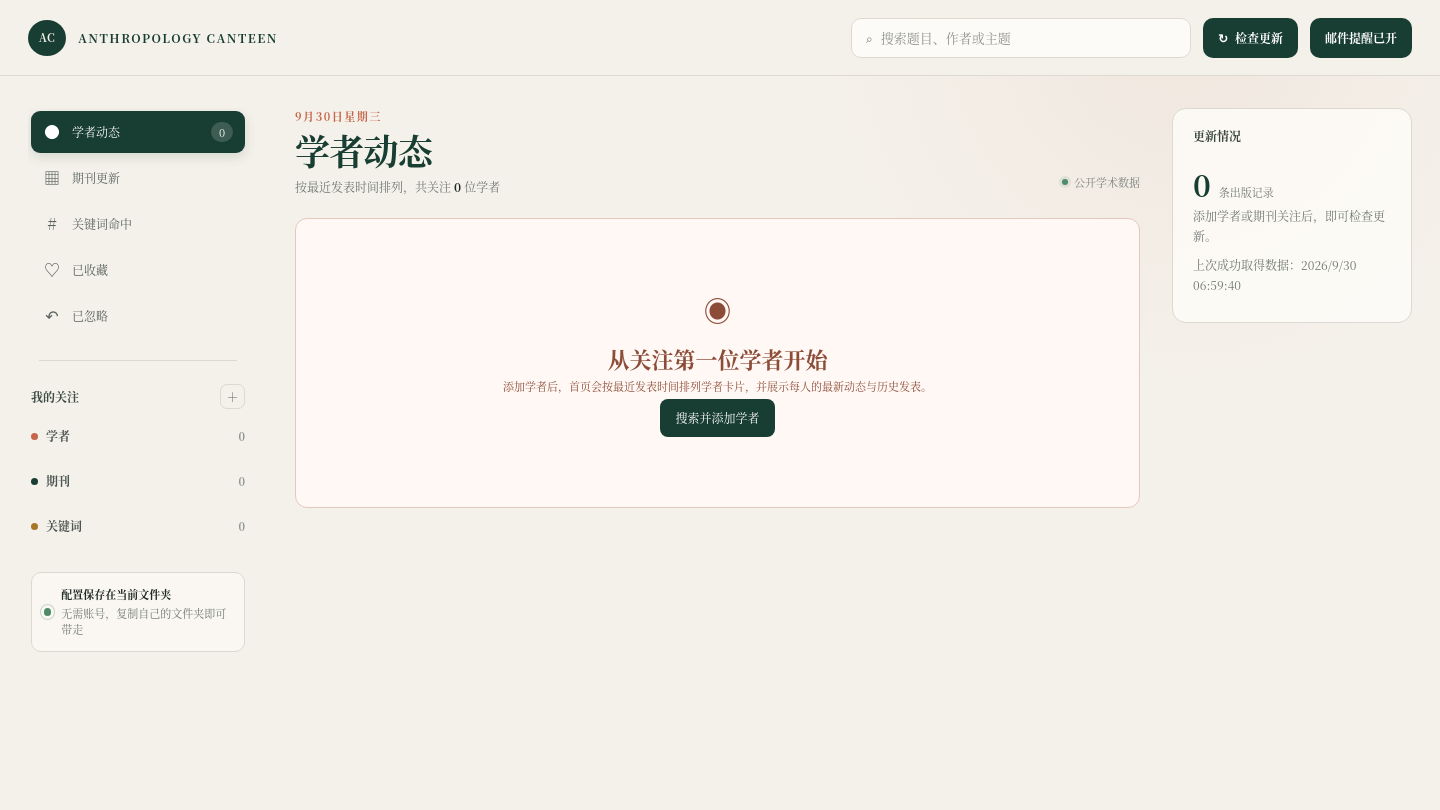
Scenario: Slice C reminder state, accessibility, and narrow layout › ambiguous old Windows tasks are reported without a delete action
This screenshot has width=1440, height=810.
Click the button "邮件提醒已开". click: [1361, 38]
box: [1310,18,1412,58]
(page scrolled)
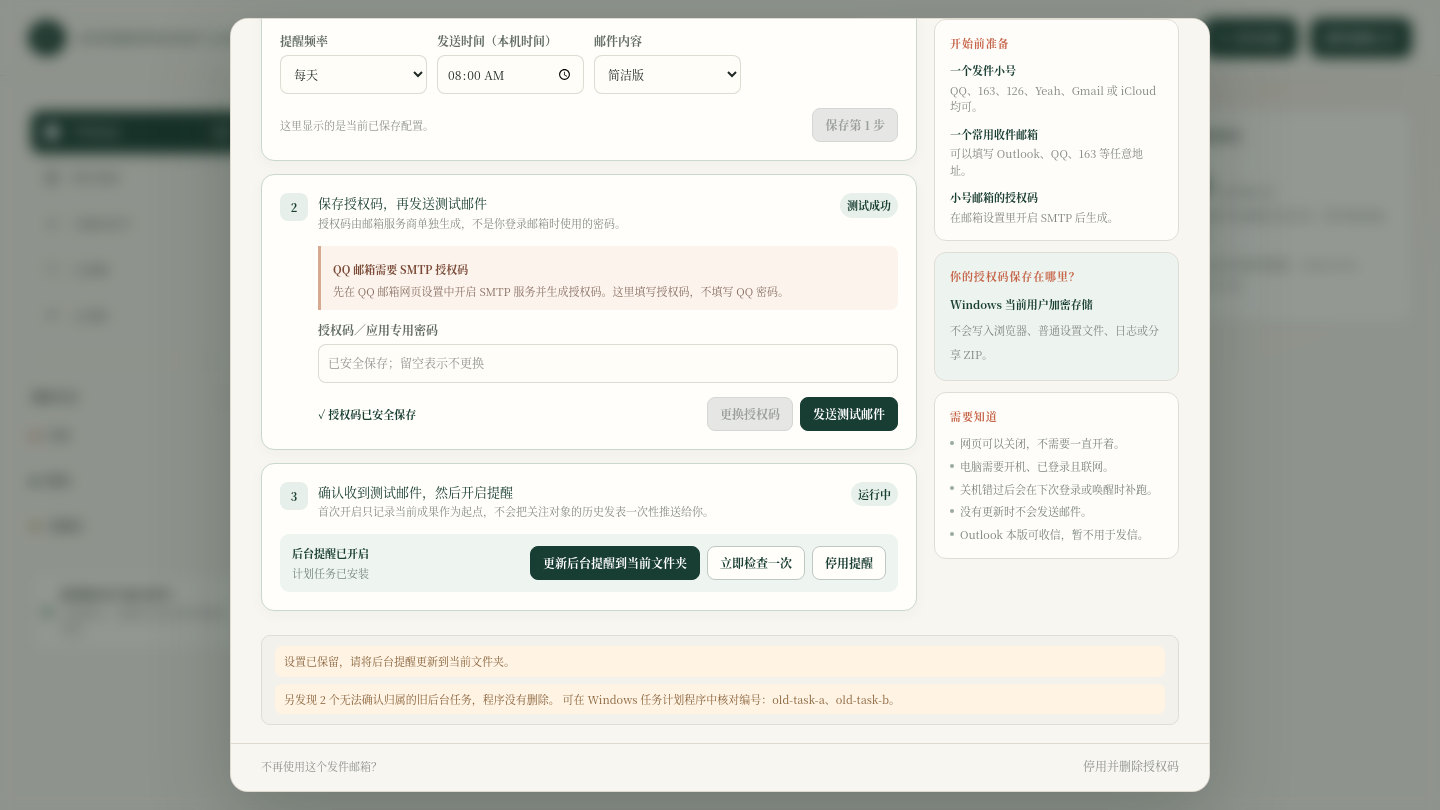
Check: the message shows "程序没有删除", box [326,691,560,707]
Check: the message shows "old-task-a、old-task-b", box [560,691,900,707]
